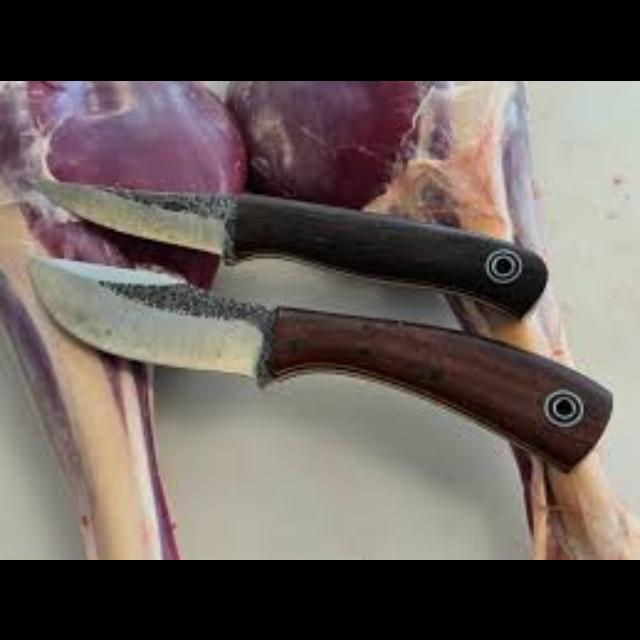knife: (25, 248, 638, 462), (26, 172, 548, 316)
